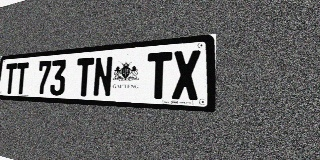3: (50, 59, 66, 96)
7: (36, 60, 52, 95)
N: (93, 56, 113, 97)
T: (146, 52, 172, 99), (75, 57, 94, 97), (15, 62, 29, 94), (4, 63, 17, 94)
X: (172, 49, 200, 100)
